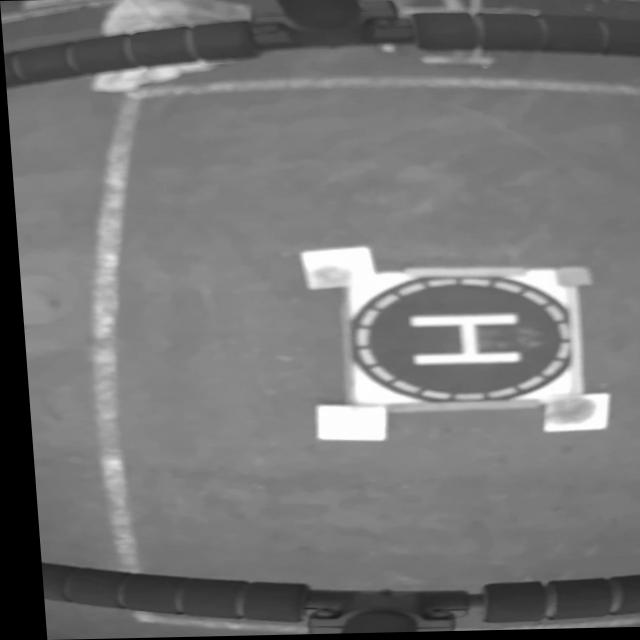Helipad: (404, 313, 517, 367)
